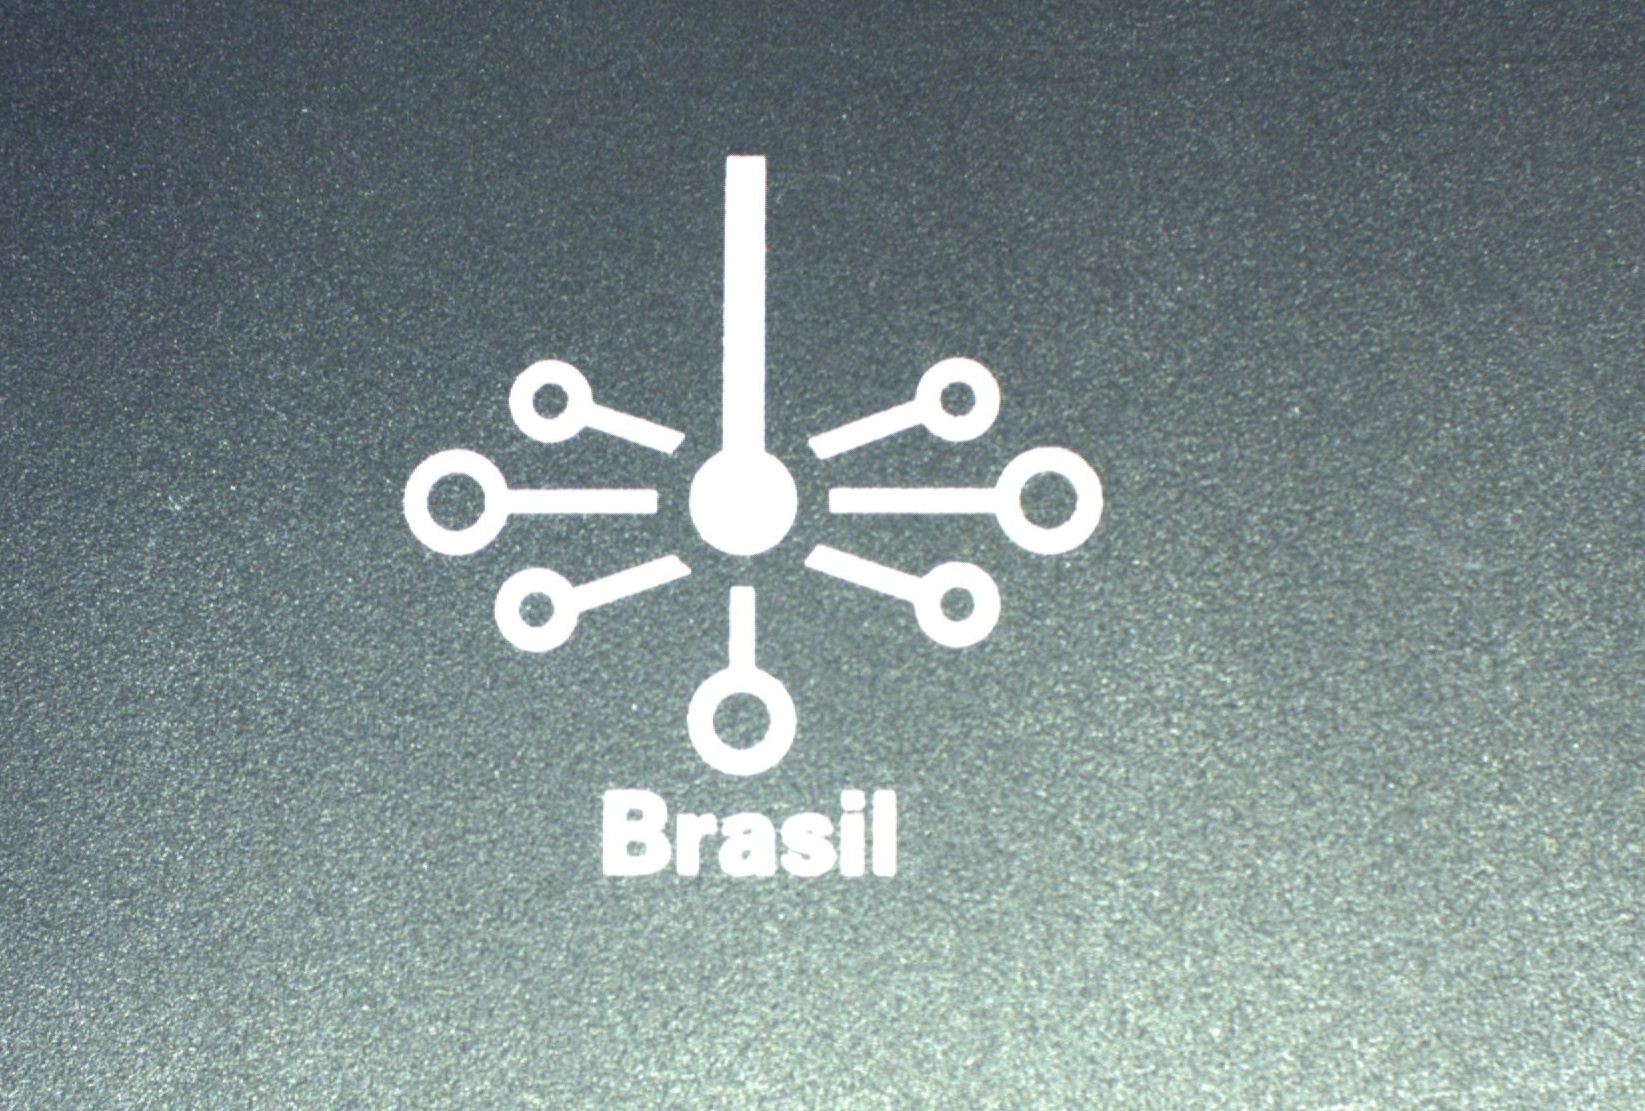BO_Brsail: (390, 148, 1105, 890)
